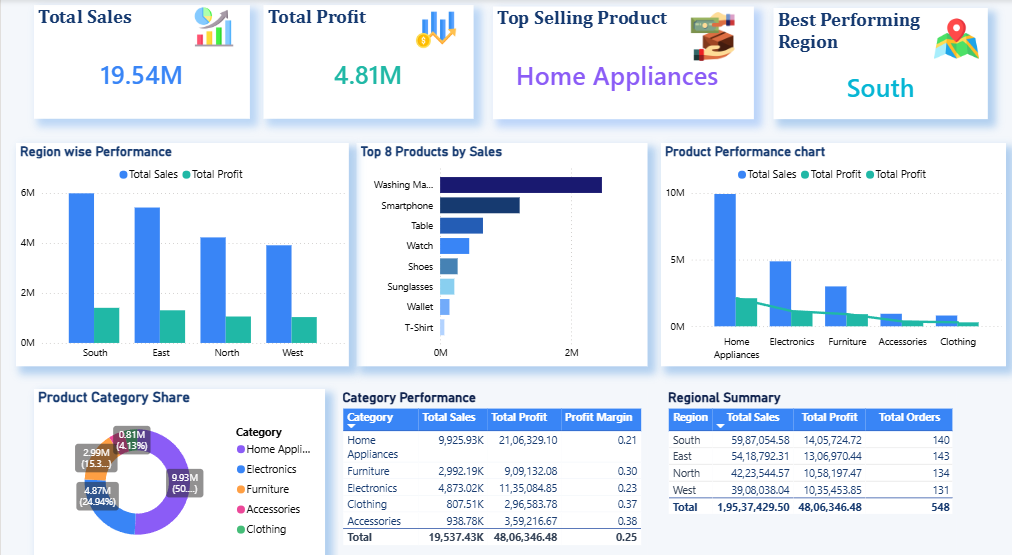

The dashboard page shown, as its layout file describes it:
{"tool":"powerbi","page":{"name":"Product & Regional Analysis","canvas":[1280,720],"ordinal":1},"visuals":[{"type":"donutChart","title":"Product Category Share","fields":{"Category":["Sales_Data.Category"],"Y":["Sales_Data.Total Sales"]},"box":[41.6,491.3,366.6,213.5],"z":0},{"type":"clusteredBarChart","title":"Top 8 Products by Sales","fields":{"Category":["Sales_Data.Product"],"Y":["Sales_Data.Total Sales"]},"box":[447.9,181.4,366.6,281.6],"z":1000},{"type":"tableEx","title":"Category Performance","fields":{"Values":["Sales_Data.Category","Sales_Data.Total Sales","Sales_Data.Total Profit","Sales_Data.Profit Margin"]},"box":[425.2,491.3,389.3,213.5],"z":2000},{"type":"tableEx","title":"Regional Summary","fields":{"Values":["Sales_Data.Region","Sales_Data.Total Sales","Sales_Data.Total Profit","Sales_Data.Total Orders"]},"box":[835.3,491.3,368.5,228.7],"z":3000},{"type":"lineClusteredColumnComboChart","title":"Product Performance chart","fields":{"Category":["Sales_Data.Category"],"Y":["Sales_Data.Total Sales","Sales_Data.Total Profit"],"Y2":["Sales_Data.Total Profit"]},"box":[831.5,181.4,434.6,281.6],"z":4000},{"type":"clusteredColumnChart","title":"Region wise Performance","fields":{"Category":["Sales_Data.Region"],"Y":["Sales_Data.Total Sales","Sales_Data.Total Profit"]},"box":[18.9,181.4,419.5,281.6],"z":5000},{"type":"cardVisual","title":"Best Performing Region","fields":{"Data":["DateTable.Best Performing Region"]},"box":[933.6,13.2,270.2,139.8],"z":7000},{"type":"cardVisual","title":"Total Sales","fields":{"Data":["Sales_Data.Total Sales"]},"box":[18.9,9.4,272.1,143.6],"z":7001},{"type":"cardVisual","title":"Total Profit","fields":{"Data":["Sales_Data.Total Profit"]},"box":[306.1,9.4,264.6,143.6],"z":7002},{"type":"cardVisual","title":"Top Selling Product","fields":{"Data":["DateTable.Top-Selling Category"]},"box":[580.2,13.2,328.8,141.7],"z":7003},{"type":"image","box":[476.2,13.2,94.5,51],"z":7004},{"type":"image","box":[200.3,13.2,90.7,51],"z":7005},{"type":"image","box":[814.5,17,77.5,68],"z":7006},{"type":"image","box":[1133.9,22.7,56.7,62.4],"z":7007}]}

Visuals, with their boxes in screenshot pixels (x1, y1, x2, y2), scaled from the page's 1280x720 canvas onto the 1012x555 screenshot:
"Product Category Share" donutChart: <region>33, 379, 323, 543</region>
"Top 8 Products by Sales" clusteredBarChart: <region>354, 140, 644, 357</region>
"Category Performance" tableEx: <region>336, 379, 644, 543</region>
"Regional Summary" tableEx: <region>660, 379, 952, 554</region>
"Product Performance chart" lineClusteredColumnComboChart: <region>657, 140, 1001, 357</region>
"Region wise Performance" clusteredColumnChart: <region>15, 140, 347, 357</region>
"Best Performing Region" cardVisual: <region>738, 10, 952, 118</region>
"Total Sales" cardVisual: <region>15, 7, 230, 118</region>
"Total Profit" cardVisual: <region>242, 7, 451, 118</region>
"Top Selling Product" cardVisual: <region>459, 10, 719, 119</region>
image: <region>376, 10, 451, 49</region>
image: <region>158, 10, 230, 49</region>
image: <region>644, 13, 705, 66</region>
image: <region>896, 17, 941, 66</region>
